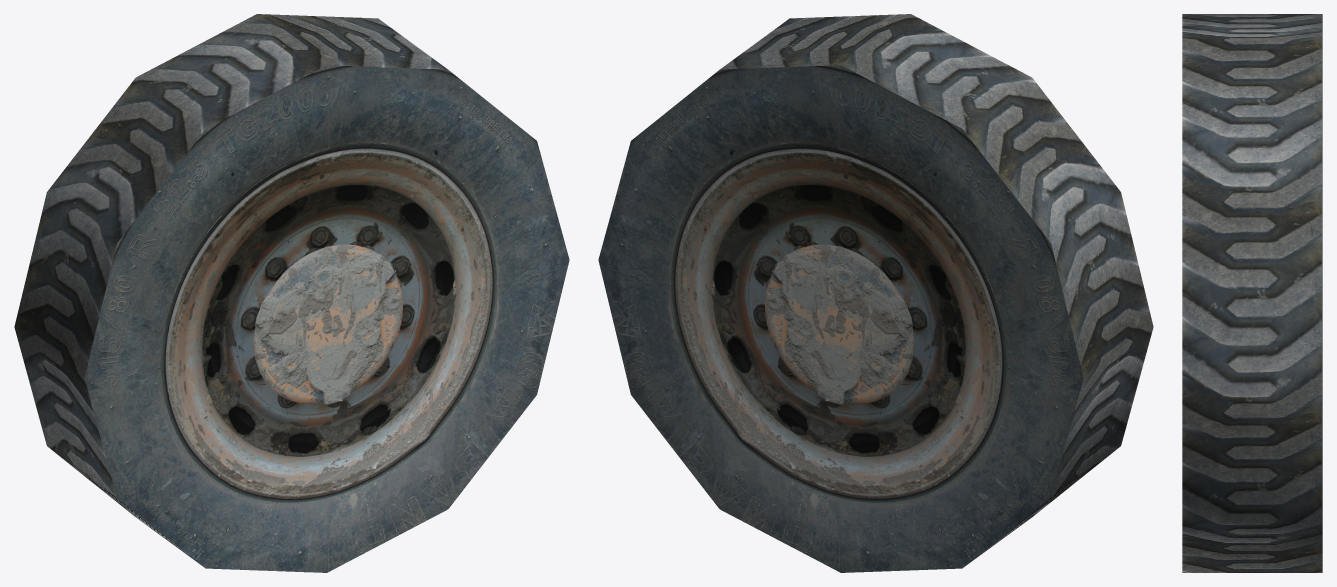
Rendered from tyre_LOD1.fbx.
3 views of the same model, side by side, from view 1: azimuth 30°, elevation 25°; view 2: azimuth 150°, elevation 25°; view 3: azimuth 270°, elevation 25° (orthographic).
Visible parts, largest first — view 1: Mesh Object; view 2: Mesh Object; view 3: Mesh Object.
Boxes of the visible parts, x1=… form: Mesh Object: x1=14, y1=14, x2=569, y2=572; Mesh Object: x1=598, y1=14, x2=1153, y2=572; Mesh Object: x1=1182, y1=14, x2=1322, y2=572.
Size of the model in its own units: 0.88 by 0.88 by 0.22.
